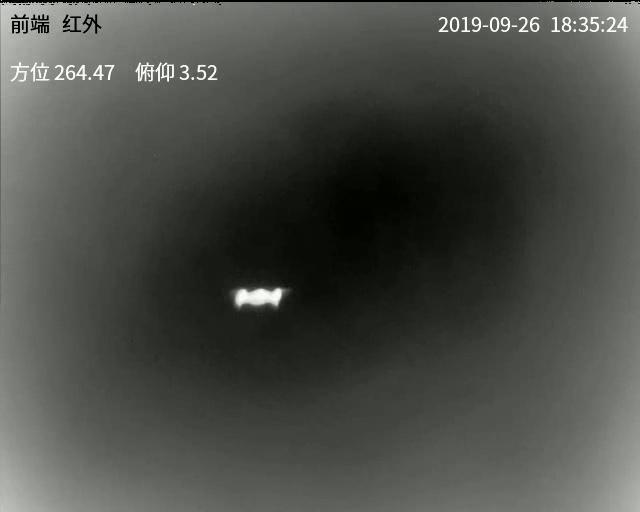DRONE: (233, 286, 287, 309)
